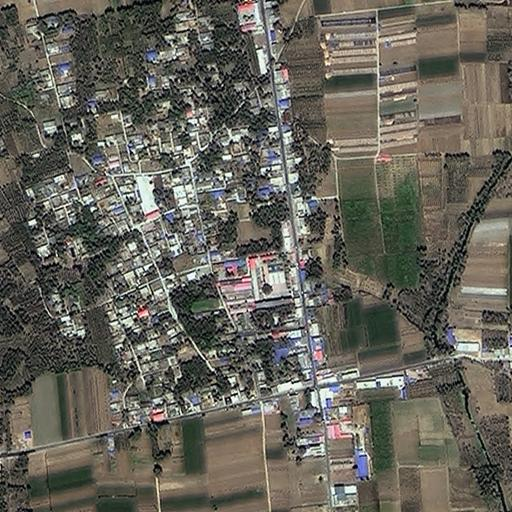school: (247, 251, 298, 308)
